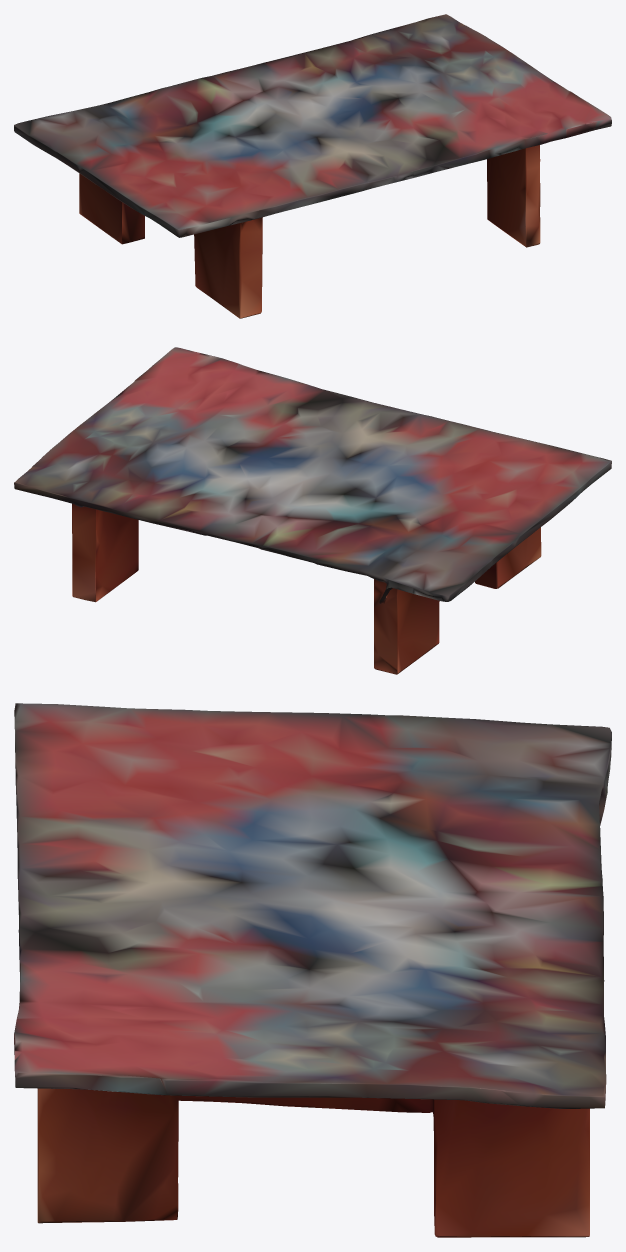
3 views of the same model, one above another, from view 1: azimuth 30°, elevation 25°; view 2: azimuth 150°, elevation 25°; view 3: azimuth 270°, elevation 25° (orthographic). The views are drawn at different scales.
Visible parts, largest first — view 1: mural02; view 2: mural02; view 3: mural02.
Boxes of the visible parts, x1=… form: mural02: x1=14, y1=14, x2=611, y2=318; mural02: x1=14, y1=347, x2=611, y2=674; mural02: x1=14, y1=703, x2=611, y2=1237.
Size of the model in its own units: 3.45 by 0.8997 by 2.26.
